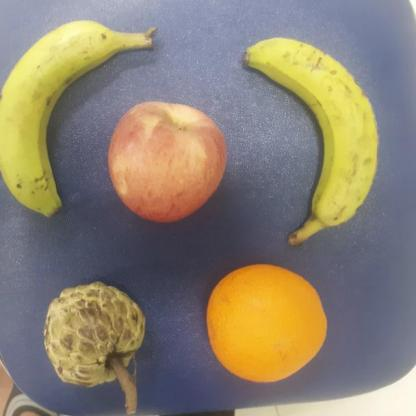annona: (41, 281, 151, 385)
apple: (107, 102, 231, 222)
banana: (241, 37, 378, 250), (0, 17, 119, 221)
pear: (206, 264, 334, 380)
